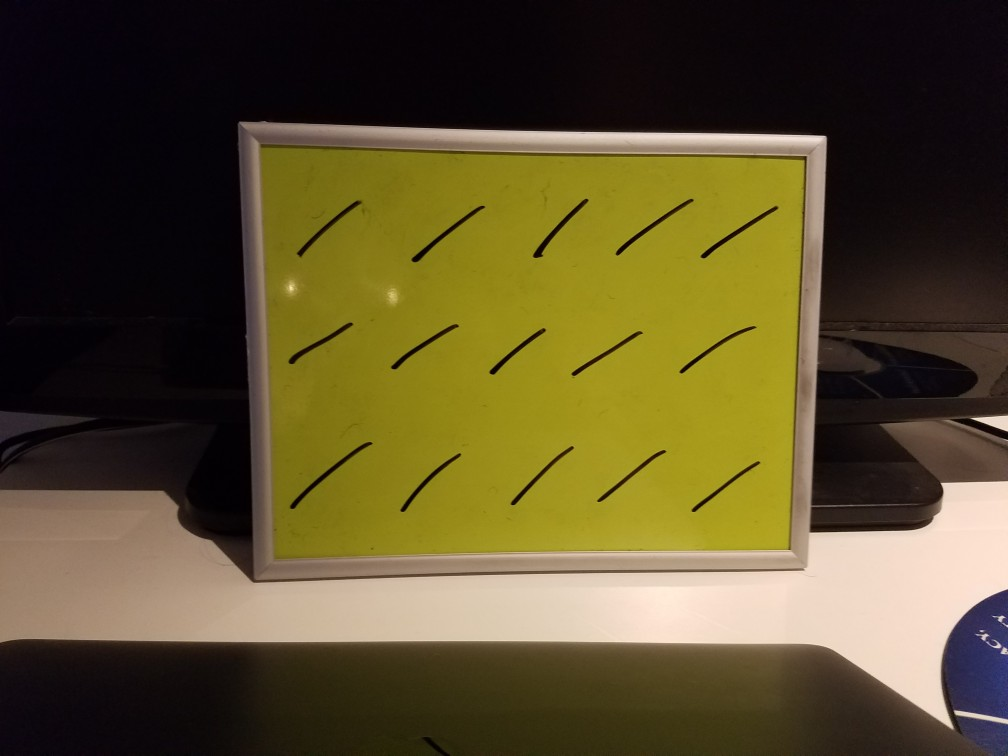/: (401, 186, 493, 277), (289, 428, 373, 523), (510, 179, 599, 268), (699, 189, 785, 279), (492, 430, 586, 512), (610, 183, 699, 269), (680, 445, 775, 521), (673, 307, 760, 387), (289, 183, 366, 269), (597, 432, 669, 520), (469, 315, 557, 385), (399, 442, 471, 523), (277, 309, 366, 374), (564, 320, 650, 387), (382, 312, 462, 381)
